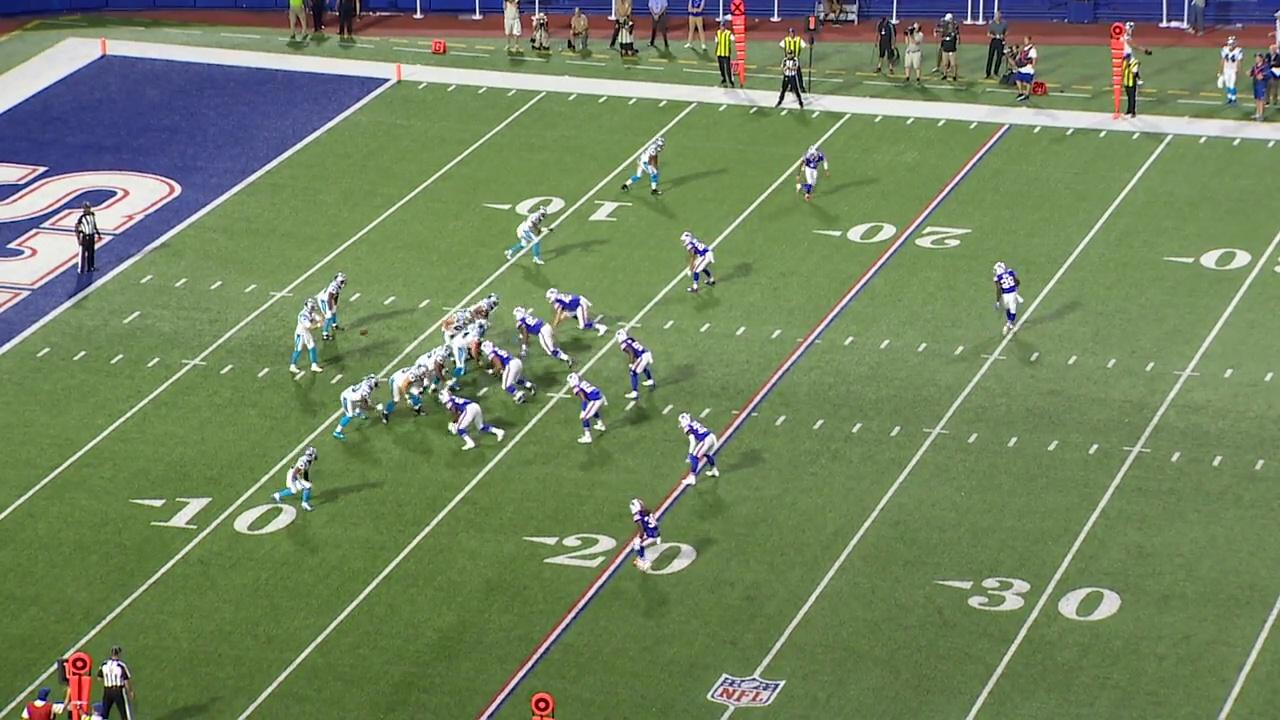five_hash: (1121, 445, 1151, 455), (179, 358, 208, 368), (922, 426, 951, 436), (980, 352, 1007, 362), (615, 320, 643, 329), (544, 391, 572, 400), (1172, 369, 1200, 378), (269, 290, 295, 299), (442, 305, 466, 312)
hash: (72, 348, 89, 363), (810, 417, 827, 432), (109, 351, 125, 366), (876, 336, 892, 351), (1064, 352, 1079, 368), (915, 338, 929, 355), (219, 362, 234, 377), (773, 413, 788, 428), (1086, 441, 1101, 456), (622, 399, 638, 413), (887, 424, 903, 438), (1210, 454, 1226, 468), (36, 346, 53, 359), (848, 421, 865, 434), (1168, 450, 1183, 464), (1252, 458, 1267, 472), (382, 294, 397, 308), (733, 324, 748, 338), (952, 343, 966, 358), (242, 282, 258, 295), (327, 372, 344, 384), (660, 402, 674, 416), (1027, 350, 1041, 364), (842, 333, 855, 348), (145, 356, 161, 368), (965, 432, 981, 444), (256, 366, 270, 379), (293, 369, 306, 383), (698, 406, 712, 419), (1005, 435, 1019, 448), (1046, 439, 1060, 452), (417, 296, 431, 309), (698, 321, 712, 334), (1222, 366, 1236, 379), (1262, 370, 1275, 384), (1144, 359, 1156, 374), (1105, 357, 1118, 370), (209, 279, 223, 291), (139, 274, 154, 285), (349, 292, 362, 304), (174, 277, 188, 288), (663, 318, 675, 330), (770, 329, 783, 339)
marker: (65, 649, 94, 720), (731, 0, 748, 88), (1109, 22, 1125, 115), (527, 691, 555, 720)
number: (929, 566, 1130, 628), (524, 525, 707, 578), (129, 489, 301, 536), (810, 210, 973, 257)
player: (394, 63, 403, 83), (99, 37, 108, 55)
